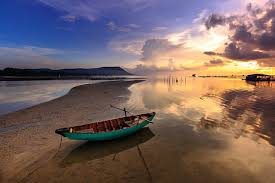boat: (55, 111, 156, 145)
